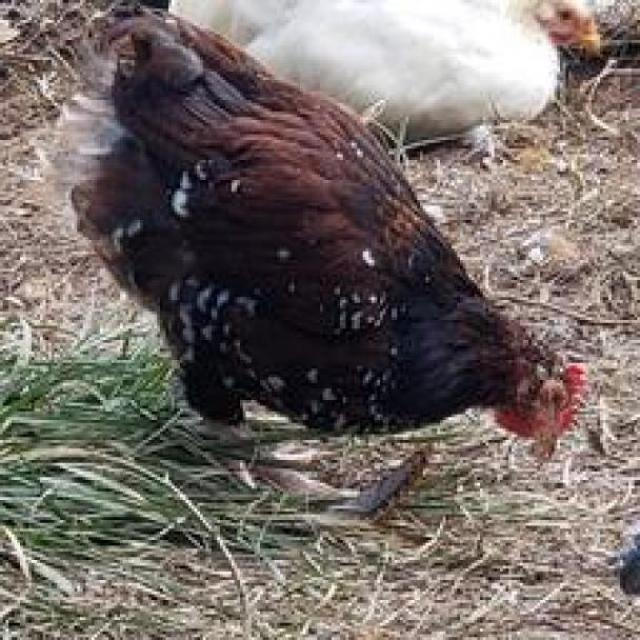Chicken: (44, 29, 608, 477)
